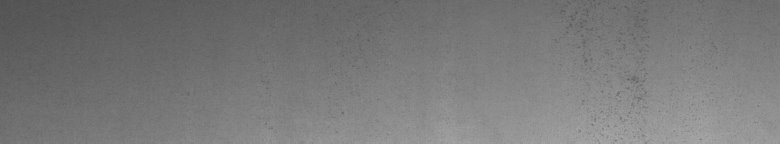ib: (570, 12, 647, 124)
